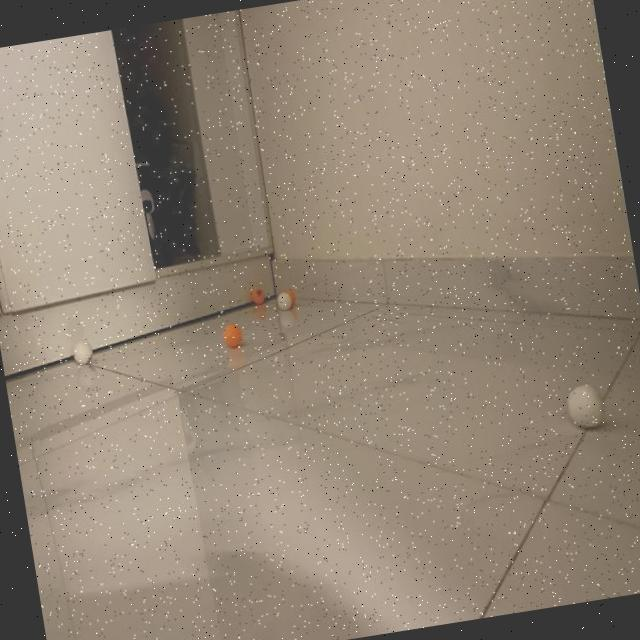ping-pong-ball: (566, 382, 608, 432), (72, 336, 96, 367), (222, 319, 246, 350), (250, 284, 268, 306), (277, 288, 294, 310), (283, 288, 297, 306)
